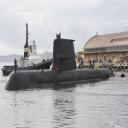submarine: (5, 39, 112, 91)
